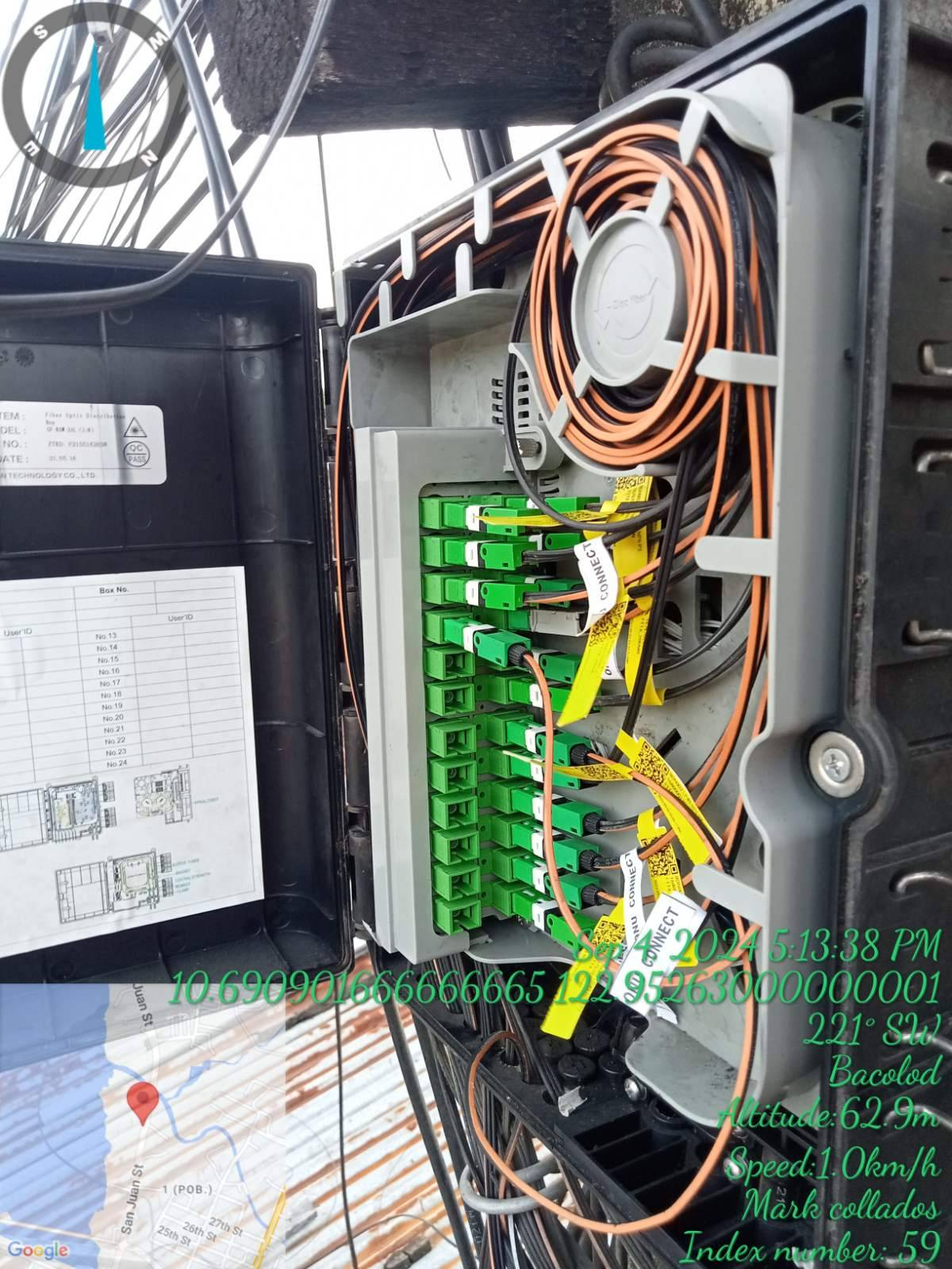no dust cap: (450, 901, 482, 936), (443, 726, 476, 757), (450, 868, 480, 902), (442, 685, 475, 714), (446, 799, 477, 828), (451, 832, 479, 864), (446, 764, 477, 792), (444, 651, 473, 680)
occupied: (509, 884, 626, 967), (509, 856, 614, 914), (509, 818, 608, 876), (503, 719, 605, 774), (512, 783, 610, 839), (442, 617, 534, 674), (504, 639, 596, 691), (511, 753, 605, 795), (441, 500, 546, 537), (508, 680, 609, 718), (444, 536, 546, 573), (503, 571, 596, 610), (444, 578, 544, 614), (505, 610, 599, 645), (505, 496, 606, 527), (504, 531, 599, 562)
